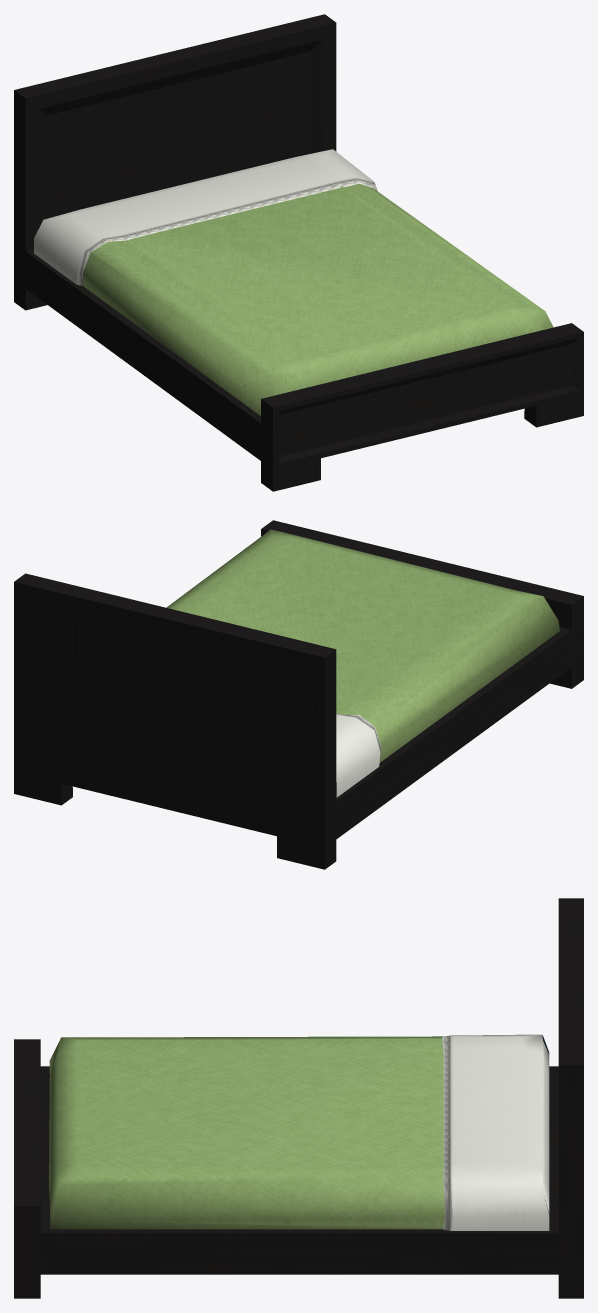
The model's file is Bed_I_2.FBX.
3 renders of one model, top to bottom at view 1: azimuth 30°, elevation 25°; view 2: azimuth 150°, elevation 25°; view 3: azimuth 270°, elevation 25°, orthographic. The views are drawn at different scales.
Visible parts, largest first — view 1: Bed; view 2: Bed; view 3: Bed.
Part boxes in pixels (left/top/right/bottom): Bed: left=14, top=14, right=583, bottom=491; Bed: left=14, top=520, right=583, bottom=869; Bed: left=14, top=898, right=583, bottom=1298.
Size of the model in its own units: 397 by 259 by 573.
